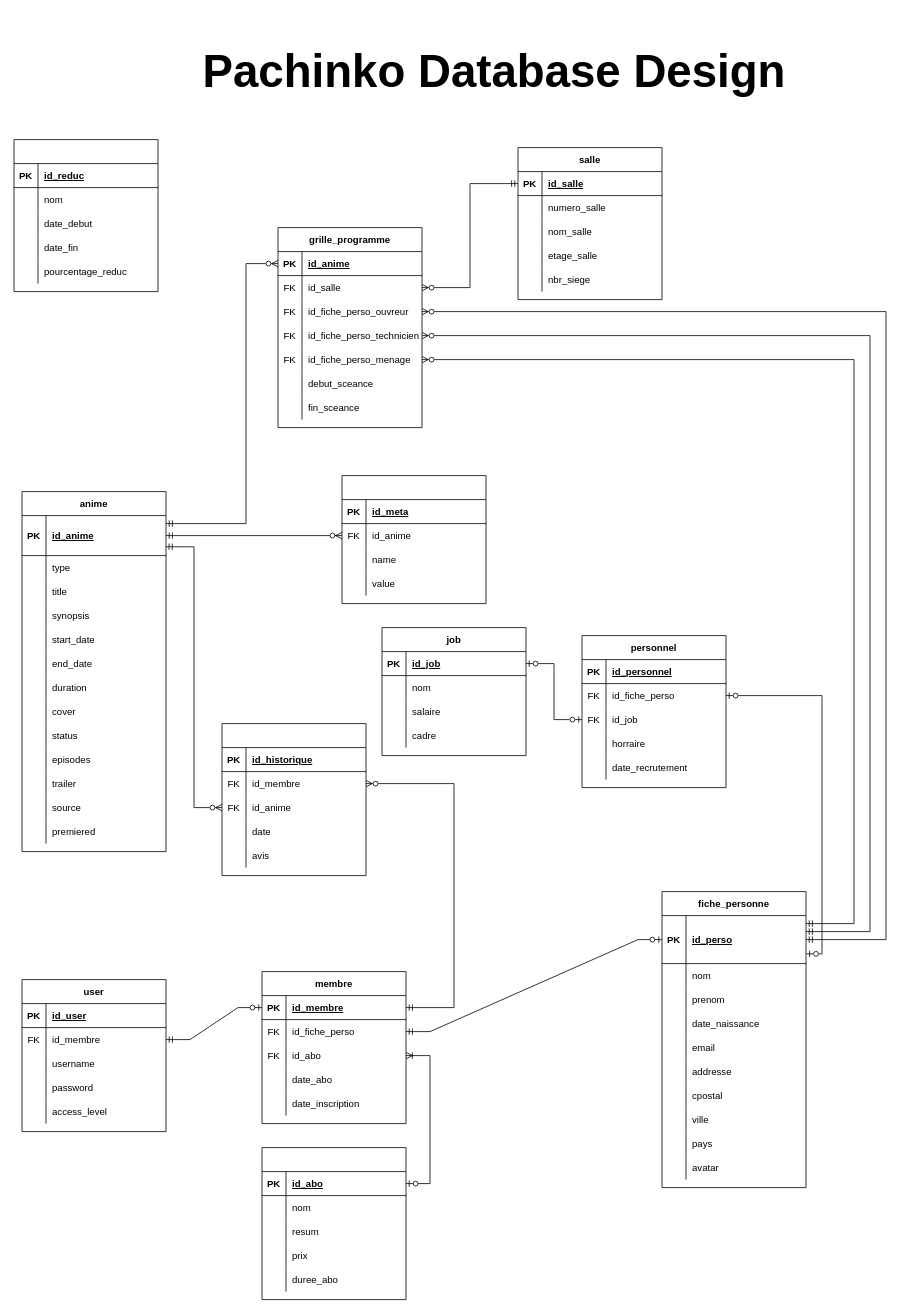
The diagram is 907 pixels wide and 1314 high, and some of its shapes have lost their labels. Here are the shapes that lost their labels. From the top down, the box of each, then its label:
(13, 139, 158, 292): reduction
(341, 475, 486, 604): anime_meta
(221, 723, 366, 876): historique_membre
(261, 1147, 406, 1300): abonnement
